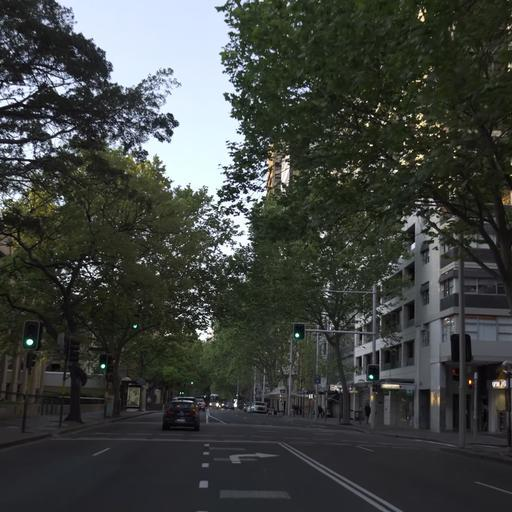Street light: (291, 284, 380, 427), (19, 318, 41, 432), (500, 359, 511, 448), (21, 319, 41, 350), (292, 322, 304, 340), (366, 363, 378, 381), (98, 352, 107, 370)
